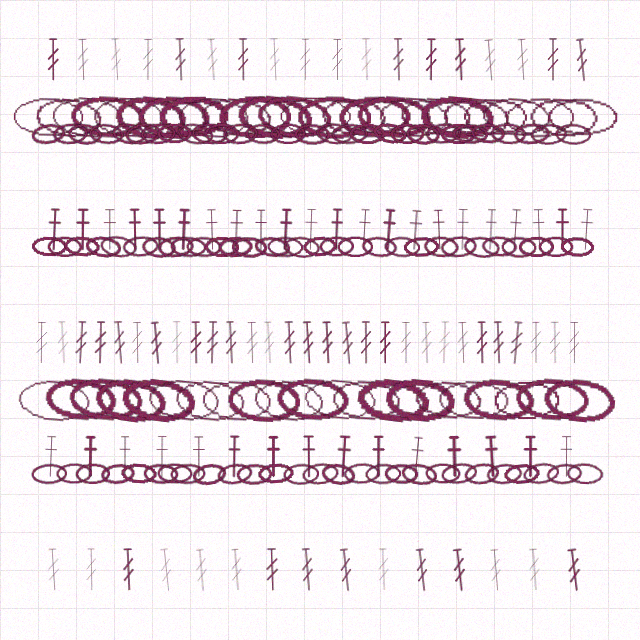chain: (92, 374, 170, 426), (235, 91, 314, 142), (119, 374, 197, 425), (354, 374, 431, 425), (255, 92, 333, 142), (250, 375, 328, 425), (197, 92, 274, 142), (67, 375, 145, 424), (145, 375, 223, 424), (31, 92, 107, 142), (113, 92, 189, 142), (541, 375, 617, 425), (418, 92, 495, 141), (301, 375, 378, 424), (172, 375, 247, 425), (43, 375, 119, 424), (355, 93, 432, 141), (15, 376, 92, 424), (439, 92, 514, 141), (383, 375, 458, 424), (461, 376, 537, 424), (49, 93, 126, 140), (514, 376, 591, 423), (479, 93, 554, 141), (411, 376, 486, 424), (397, 93, 473, 140), (275, 376, 351, 423), (317, 93, 391, 141), (329, 376, 404, 423), (69, 94, 145, 140), (136, 94, 212, 140), (376, 93, 450, 140), (226, 377, 301, 423), (176, 94, 250, 140), (199, 377, 273, 423), (436, 377, 510, 423), (91, 94, 165, 139), (526, 94, 600, 139), (11, 95, 86, 139), (297, 95, 371, 139), (338, 95, 412, 139), (503, 95, 577, 139), (545, 95, 619, 139), (278, 95, 352, 138), (218, 95, 291, 138), (460, 95, 531, 139), (158, 95, 230, 138), (491, 378, 563, 421), (371, 120, 409, 147), (176, 121, 214, 147), (216, 461, 254, 487), (400, 461, 438, 487), (315, 121, 354, 146), (99, 234, 138, 259), (301, 461, 340, 486), (30, 121, 67, 147), (191, 461, 228, 487), (320, 461, 357, 487), (124, 121, 162, 146), (84, 234, 122, 259), (440, 461, 478, 486), (522, 461, 560, 486), (111, 121, 148, 146), (463, 461, 500, 486), (253, 235, 291, 259), (283, 235, 320, 259), (361, 235, 398, 259), (463, 235, 500, 259), (486, 462, 523, 486), (503, 462, 540, 486), (546, 462, 583, 486), (566, 462, 604, 485), (67, 122, 103, 146), (88, 122, 124, 146), (405, 122, 441, 146), (141, 235, 177, 259), (100, 462, 136, 486), (52, 122, 89, 145), (191, 122, 228, 145), (222, 122, 259, 145), (425, 122, 462, 145), (490, 122, 527, 145), (513, 122, 550, 145), (63, 235, 100, 258), (122, 235, 159, 258), (157, 235, 194, 258), (440, 235, 477, 258), (481, 235, 518, 258), (120, 462, 157, 485), (257, 462, 294, 485), (343, 462, 380, 485), (140, 122, 176, 145), (470, 122, 506, 145), (217, 235, 253, 258), (302, 235, 338, 258), (423, 235, 459, 258), (331, 123, 368, 145), (530, 123, 567, 145), (294, 123, 330, 145), (452, 123, 488, 145), (555, 123, 591, 145), (170, 236, 206, 258), (186, 236, 222, 258), (231, 236, 267, 258), (267, 236, 303, 258), (384, 236, 420, 258), (403, 236, 439, 258), (501, 236, 537, 258), (31, 463, 67, 485), (143, 463, 179, 485), (170, 463, 206, 485), (236, 463, 272, 485), (283, 463, 319, 485), (365, 463, 401, 485), (245, 123, 280, 145), (560, 236, 595, 258), (384, 463, 419, 485), (204, 123, 240, 144), (270, 123, 306, 144), (349, 123, 385, 144), (440, 123, 476, 144), (31, 236, 67, 257), (337, 236, 373, 257), (518, 236, 554, 257), (538, 236, 574, 257), (56, 463, 92, 484), (157, 463, 193, 484), (425, 463, 461, 484), (157, 123, 192, 144), (390, 123, 425, 144), (47, 236, 82, 257), (204, 236, 239, 257), (319, 236, 354, 257), (75, 463, 110, 484)
half_double: (379, 208, 399, 252), (405, 208, 425, 252), (407, 435, 427, 479), (355, 208, 374, 251), (577, 208, 596, 251), (334, 435, 353, 478), (482, 435, 501, 478), (203, 208, 221, 251), (227, 208, 245, 251), (302, 208, 320, 251), (482, 208, 500, 251), (506, 208, 524, 251), (445, 435, 463, 478), (46, 208, 63, 251), (74, 208, 91, 251), (101, 208, 118, 251), (151, 208, 168, 251), (175, 208, 192, 251), (277, 208, 294, 251), (328, 208, 345, 251), (430, 208, 447, 251), (454, 208, 471, 251), (530, 208, 547, 251), (554, 208, 571, 251), (42, 435, 59, 478), (190, 435, 207, 478), (300, 435, 317, 478), (370, 435, 387, 478), (522, 435, 539, 478), (127, 208, 143, 251), (253, 208, 269, 251), (82, 435, 98, 478), (117, 435, 133, 478), (154, 435, 170, 478), (226, 435, 242, 478), (265, 435, 281, 478), (558, 435, 574, 478)
treble: (564, 548, 584, 592), (450, 548, 469, 592), (481, 38, 499, 82), (573, 38, 591, 82), (157, 548, 175, 592), (337, 548, 355, 592), (413, 548, 431, 592), (148, 321, 165, 365), (339, 321, 356, 365), (508, 321, 525, 365), (193, 548, 210, 592), (487, 548, 504, 592), (204, 38, 221, 81), (452, 38, 469, 81), (514, 38, 531, 81), (111, 321, 128, 364), (45, 548, 62, 591), (228, 548, 245, 591), (299, 548, 316, 591), (526, 548, 543, 591), (75, 38, 91, 81), (108, 38, 124, 81), (55, 321, 71, 364), (73, 321, 89, 364), (223, 321, 239, 364), (244, 321, 260, 364), (261, 321, 277, 364), (300, 321, 316, 364), (455, 321, 471, 364), (264, 548, 280, 591), (173, 38, 188, 81), (267, 38, 282, 81), (359, 38, 374, 81), (391, 38, 406, 81), (34, 321, 49, 364), (93, 321, 108, 364), (205, 321, 220, 364), (282, 321, 297, 364), (320, 321, 335, 364), (419, 321, 434, 364), (437, 321, 452, 364), (491, 321, 506, 364), (121, 548, 136, 591), (376, 548, 391, 591), (46, 38, 60, 81), (141, 38, 155, 81), (236, 38, 250, 81), (298, 38, 312, 81), (330, 38, 344, 81), (424, 38, 438, 81), (546, 38, 560, 81), (130, 321, 144, 364), (170, 321, 184, 364), (189, 321, 203, 364), (359, 321, 373, 364), (378, 321, 392, 364), (399, 321, 413, 364), (475, 321, 489, 364), (529, 321, 543, 364), (548, 321, 562, 364), (567, 321, 581, 364), (84, 548, 98, 591)
